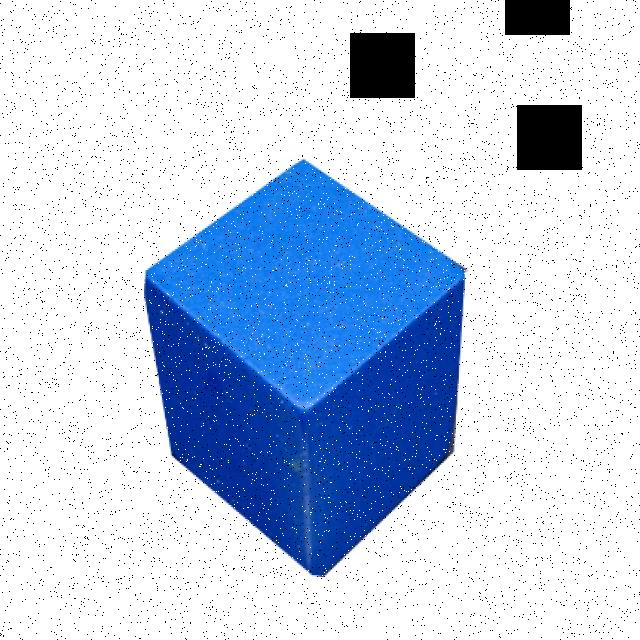bluecube: (144, 160, 466, 579)
